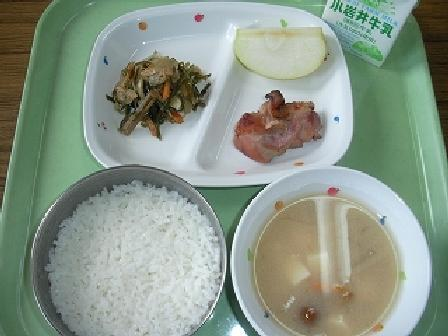Apple: (231, 21, 328, 81)
Meat: (227, 88, 330, 162)
Milk: (325, 0, 426, 54)
Rice: (34, 166, 230, 335)
Soups: (234, 173, 433, 335)
salad with sauce: (100, 40, 205, 138)
